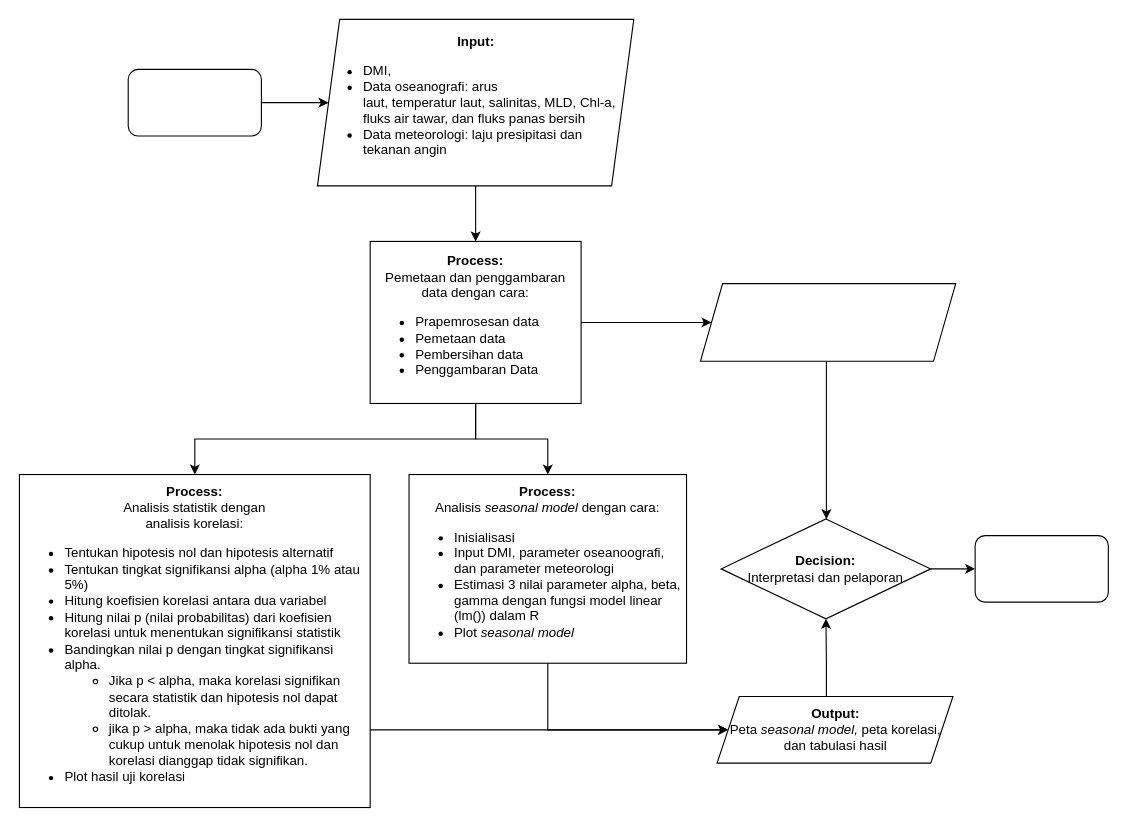
This 1128x827 diagram has some shape labels left out. The centre of each missing label's shape, as x and y in pixels:
End: point (1041, 568)
Output: Peta IOD, oseanografi, dan meteorologi: point (827, 321)
Start: point (194, 102)
